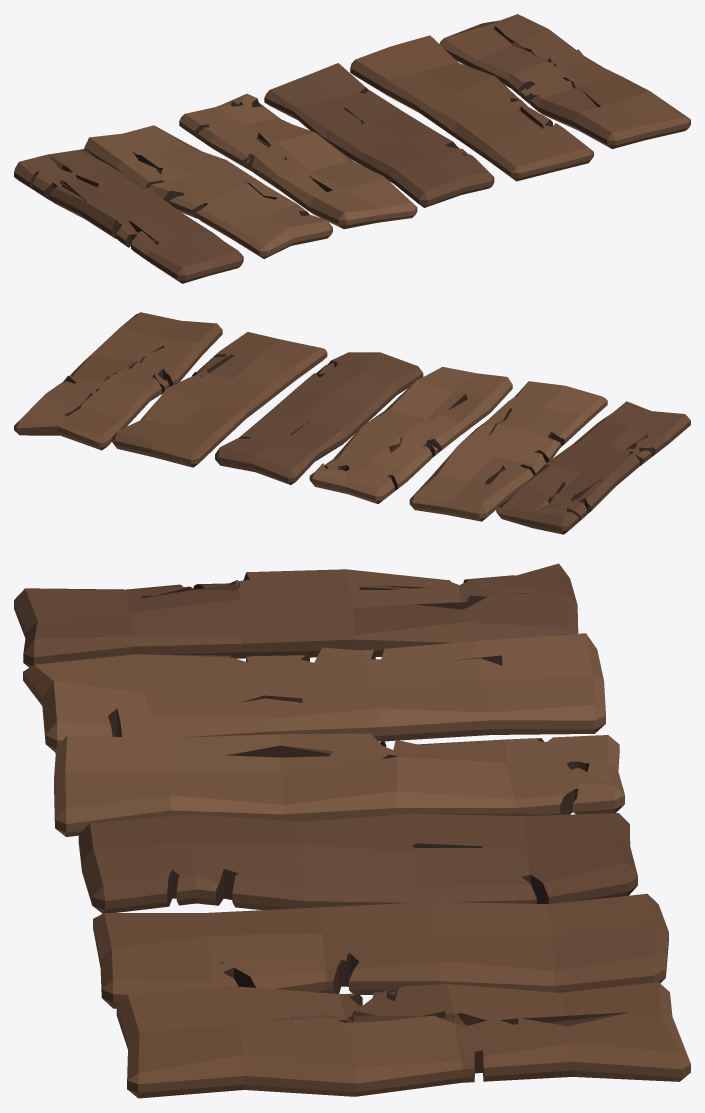
The model's file is wooden Plank.fbx.
3 renders of one model, top to bottom at view 1: azimuth 30°, elevation 25°; view 2: azimuth 150°, elevation 25°; view 3: azimuth 270°, elevation 25°, orthographic. The views are drawn at different scales.
Parts seen in each view (by area): view 1: WoodenPlank_5, WoodenPlank_6, WoodenPlank_4, WoodenPlank_3, WoodenPlank_2, WoodenPlank_1; view 2: WoodenPlank_6, WoodenPlank_5, WoodenPlank_2, WoodenPlank_4, WoodenPlank_3, WoodenPlank_1; view 3: WoodenPlank_6, WoodenPlank_2, WoodenPlank_4, WoodenPlank_5, WoodenPlank_3, WoodenPlank_1.
Part boxes in pixels (<box>): WoodenPlank_5: <box>350,35,593,181</box>; WoodenPlank_6: <box>439,14,690,148</box>; WoodenPlank_4: <box>264,63,494,207</box>; WoodenPlank_3: <box>179,93,417,229</box>; WoodenPlank_2: <box>84,125,332,258</box>; WoodenPlank_1: <box>14,149,243,283</box>; WoodenPlank_6: <box>14,312,222,450</box>; WoodenPlank_5: <box>112,332,327,467</box>; WoodenPlank_2: <box>409,381,607,521</box>; WoodenPlank_4: <box>215,352,423,484</box>; WoodenPlank_3: <box>309,367,512,503</box>; WoodenPlank_1: <box>496,401,690,534</box>; WoodenPlank_6: <box>116,982,690,1098</box>; WoodenPlank_2: <box>23,633,605,752</box>; WoodenPlank_4: <box>78,813,637,913</box>; WoodenPlank_5: <box>93,893,668,1008</box>; WoodenPlank_3: <box>54,733,624,836</box>; WoodenPlank_1: <box>14,563,578,667</box>.
Bounding box in the file's own units: 336 × 14.75 × 190.
